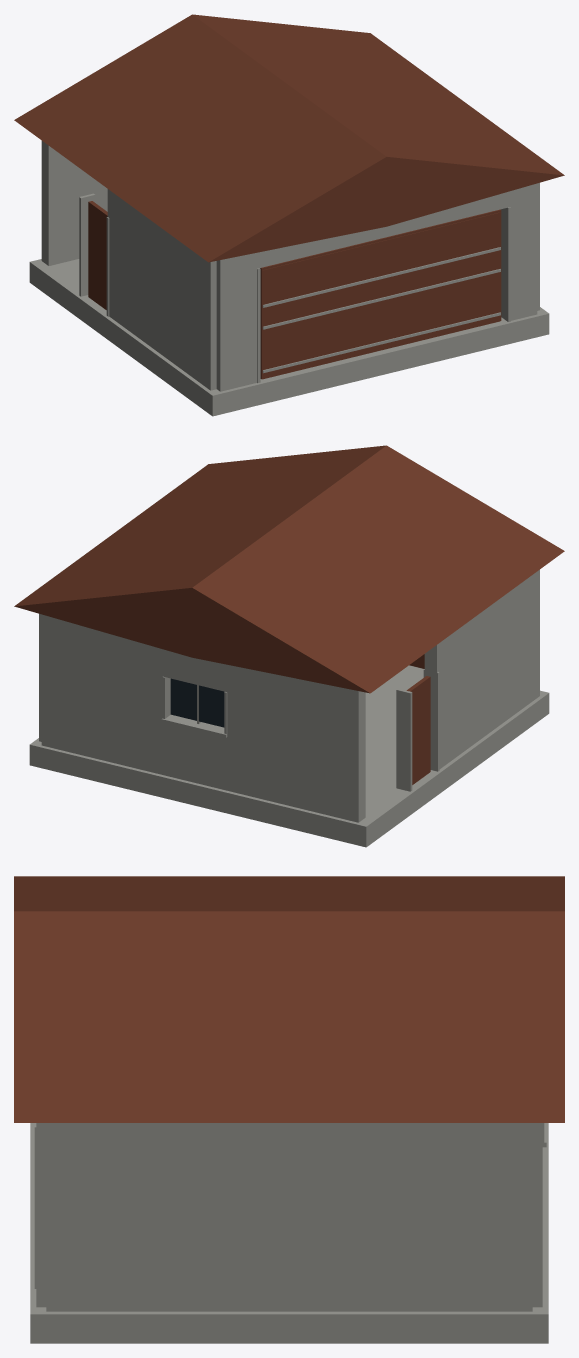
File: GB_Garage_Damaged_01.glb
The picture shows the model from 3 angles, top to bottom: view 1: azimuth 30°, elevation 25°; view 2: azimuth 150°, elevation 25°; view 3: azimuth 270°, elevation 25°; orthographic projection. The views are drawn at different scales.
Parts seen in each view (by area): view 1: GB_Garage_Damaged_01; view 2: GB_Garage_Damaged_01; view 3: GB_Garage_Damaged_01.
Boxes of the visible parts, x1,y1,x2,y2 form: GB_Garage_Damaged_01: [14, 14, 564, 416]; GB_Garage_Damaged_01: [14, 445, 564, 847]; GB_Garage_Damaged_01: [14, 876, 564, 1343].
Bounding box in the file's own units: 7.2 × 4.3 × 6.8.
Materials: 1 (1 with a texture image).
